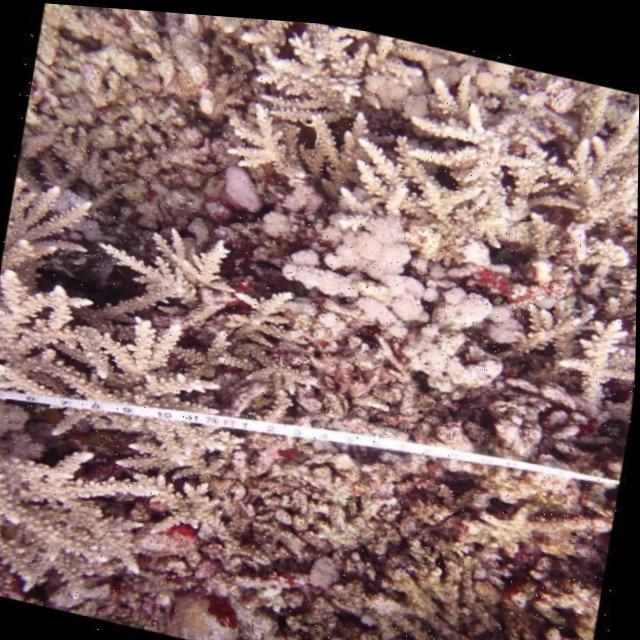Bleached Coral: (254, 187, 529, 410)
Healthy Coral: (312, 33, 640, 223), (0, 270, 219, 414), (0, 439, 208, 573)
